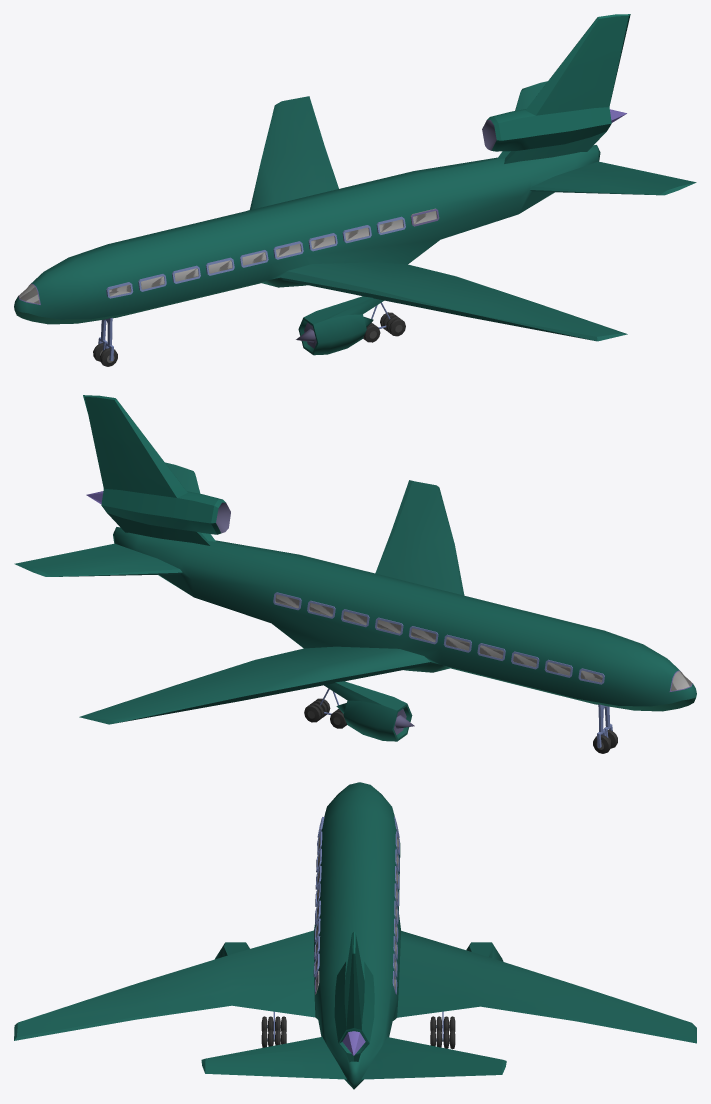
3 renders of one model, top to bottom at view 1: azimuth 30°, elevation 25°; view 2: azimuth 150°, elevation 25°; view 3: azimuth 270°, elevation 25°, orthographic. The views are drawn at different scales.
Parts seen in each view (by area): view 1: Plane_3_F; view 2: Plane_3_F; view 3: Plane_3_F.
Part boxes in pixels (bbox=[...]): Plane_3_F: bbox=[14, 14, 696, 366]; Plane_3_F: bbox=[14, 395, 696, 753]; Plane_3_F: bbox=[14, 782, 696, 1089].
Bounding box in the file's own units: 2712 × 969 × 2481.
